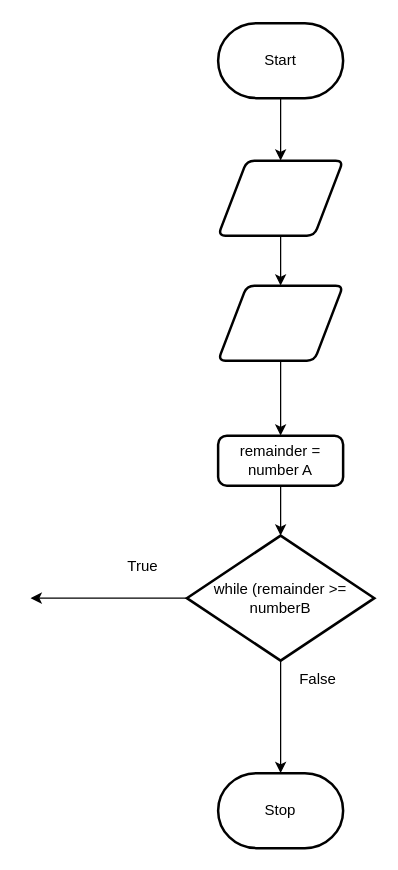
The diagram is 398 pixels wide and 870 high, and some of its shapes have lost their labels. Here are the shapes that lost their labels. From the top down, the centre of each, then its label:
At (280,197): "Enter numberA".
At (280,322): "Enter numberB".
